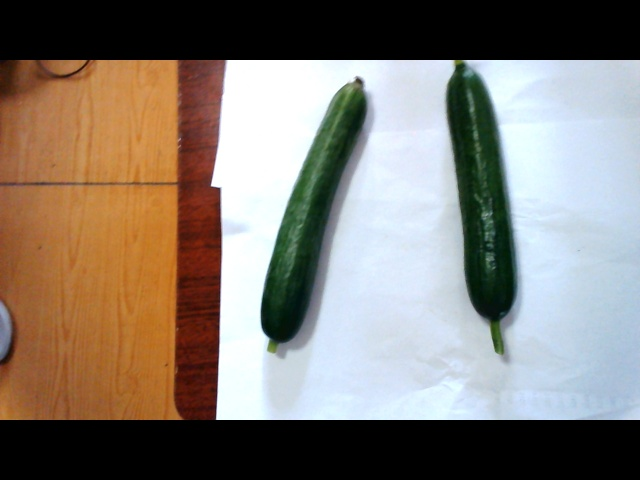cucumber: (259, 82, 368, 359), (429, 73, 535, 351)
